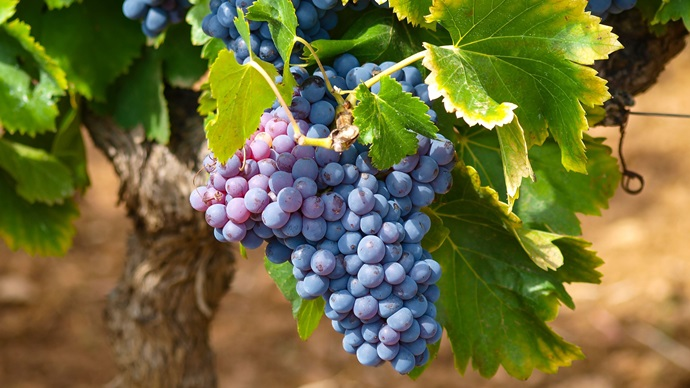Black grapes: (203, 30, 480, 384)
